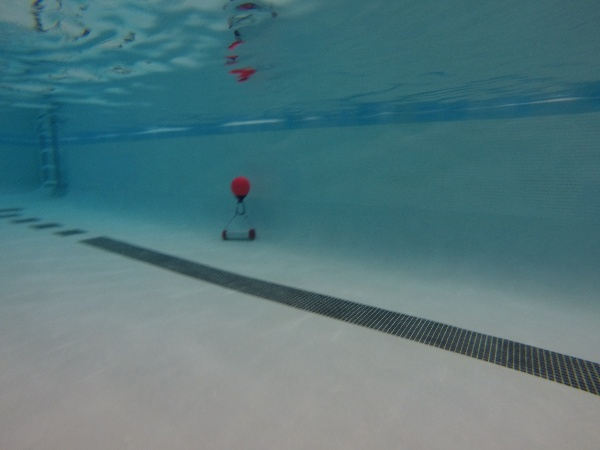buoy_red: (228, 176, 253, 205)
